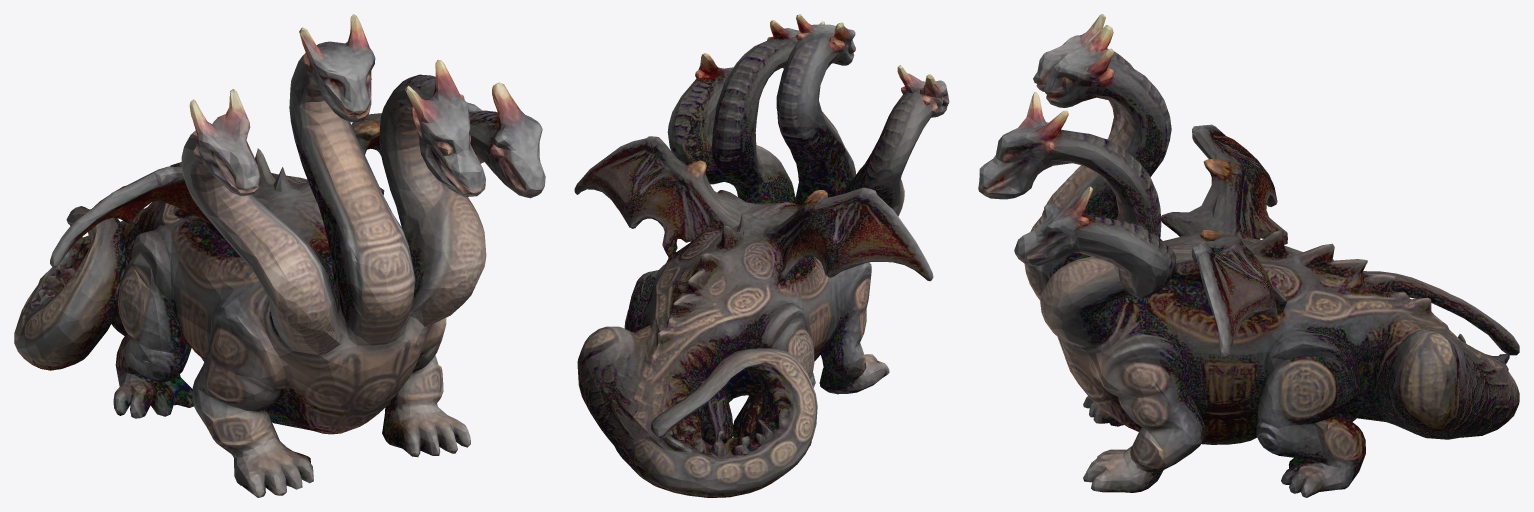
File: smolderhead.glb
3 renders of one model, left to right at view 1: azimuth 30°, elevation 25°; view 2: azimuth 150°, elevation 25°; view 3: azimuth 270°, elevation 25°, orthographic. The views are drawn at different scales.
Visible parts, largest first — view 1: world; view 2: world; view 3: world.
Boxes of the visible parts, x1,y1,x2,y2 form: world: [14, 14, 545, 497]; world: [574, 14, 949, 497]; world: [978, 14, 1519, 497].
Bounding box in the file's own units: 0.8717 × 0.831 × 0.9954.
1 material, 1 textured.
